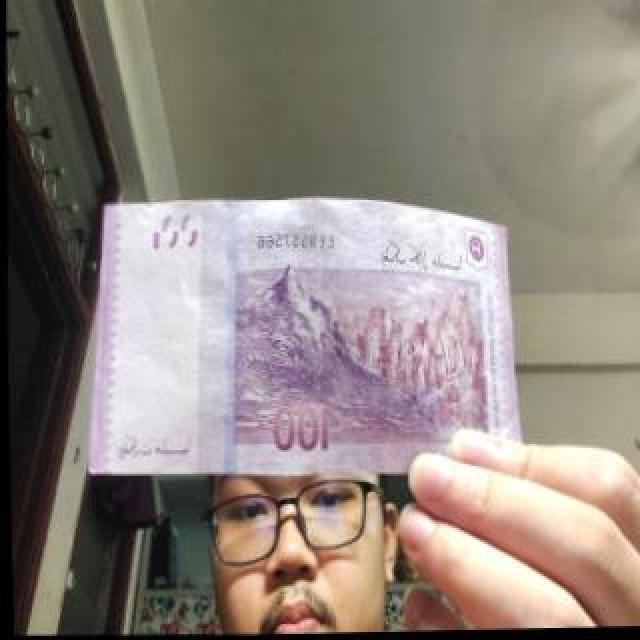100 Ringgit: (36, 186, 545, 481)
